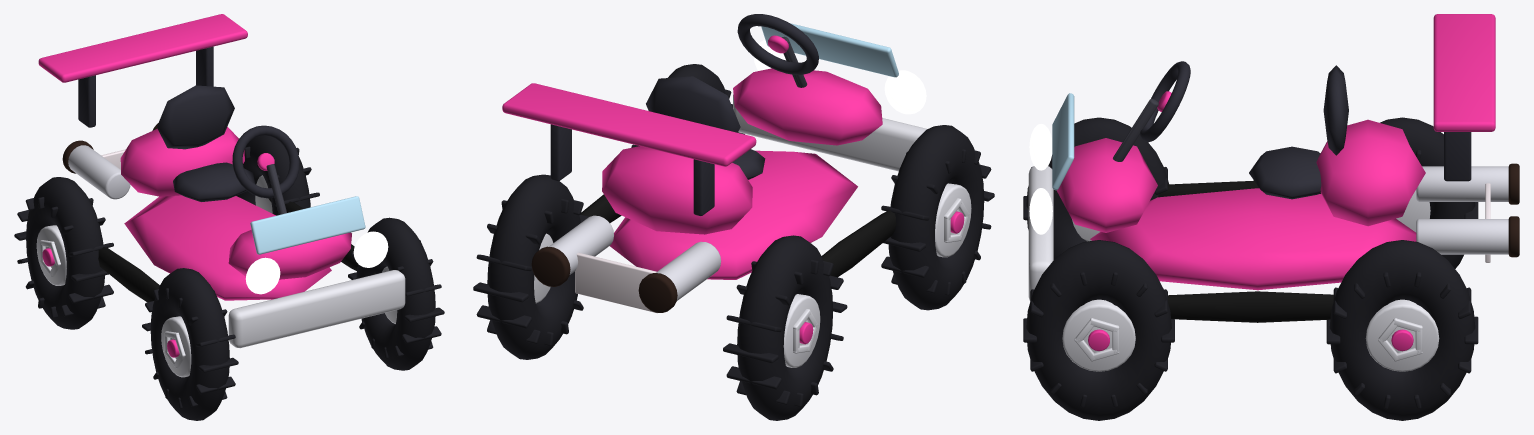
Rendered from kart-bajaj.glb.
3 views of the same model, side by side, from view 1: azimuth 30°, elevation 25°; view 2: azimuth 150°, elevation 25°; view 3: azimuth 270°, elevation 25° (orthographic). The views are drawn at different scales.
Parts seen in each view (by area): view 1: Cube, Torus.120, Cube.006, Torus.122, Torus.121, Cube.010, Cube.003, Cube.002, Cube.005, Cube.001, Torus.123, Cube.004 (+10 smaller); view 2: Cube, Torus.120, Torus.122, Torus.123, Cube.003, Cube.010, Cube.001, Cube.006, Cube.005, Cube.007, Cube.002, Torus.124 (+13 smaller); view 3: Cube, Torus.121, Torus.123, Cube.003, Cube.010, Cube.001, Cube.009, Torus.120, Cylinder.002, Cube.004, Cylinder.010, Cylinder.006 (+14 smaller).
Boxes of the visible parts, x1=… form: Cube: x1=124, y1=195, x2=331, y2=300; Torus.120: x1=150, y1=268, x2=229, y2=420; Cube.006: x1=228, y1=270, x2=405, y2=348; Torus.122: x1=26, y1=177, x2=104, y2=329; Torus.121: x1=356, y1=217, x2=435, y2=370; Cube.010: x1=38, y1=14, x2=247, y2=82; Cube.003: x1=120, y1=127, x2=244, y2=196; Cube.002: x1=250, y1=196, x2=365, y2=254; Cube.005: x1=157, y1=85, x2=234, y2=149; Cube.001: x1=228, y1=229, x2=351, y2=279; Torus.123: x1=236, y1=135, x2=310, y2=215; Cube.004: x1=173, y1=162, x2=254, y2=201; Cube: x1=610, y1=150, x2=857, y2=279; Torus.120: x1=888, y1=125, x2=984, y2=310; Torus.122: x1=737, y1=235, x2=833, y2=420; Torus.123: x1=487, y1=174, x2=580, y2=359; Cube.003: x1=602, y1=146, x2=752, y2=234; Cube.010: x1=502, y1=83, x2=756, y2=166; Cube.001: x1=733, y1=68, x2=882, y2=145; Cube.006: x1=733, y1=94, x2=927, y2=171; Cube.005: x1=646, y1=76, x2=740, y2=132; Cube.007: x1=575, y1=252, x2=657, y2=313; Cube.002: x1=761, y1=23, x2=898, y2=77; Torus.124: x1=737, y1=14, x2=818, y2=74; Cube: x1=1090, y1=188, x2=1416, y2=290; Torus.121: x1=1026, y1=240, x2=1171, y2=420; Torus.123: x1=1329, y1=240, x2=1475, y2=420; Cube.003: x1=1316, y1=119, x2=1425, y2=226; Cube.010: x1=1433, y1=14, x2=1495, y2=131; Cube.001: x1=1056, y1=138, x2=1157, y2=232; Cube.009: x1=1167, y1=291, x2=1333, y2=322; Torus.120: x1=1026, y1=117, x2=1168, y2=259; Cylinder.002: x1=1416, y1=219, x2=1508, y2=254; Cube.004: x1=1249, y1=146, x2=1321, y2=199; Cylinder.010: x1=1365, y1=299, x2=1439, y2=371; Cylinder.006: x1=1062, y1=299, x2=1135, y2=371.
Size of the model in its own units: 2.52 by 2.34 by 3.6.
